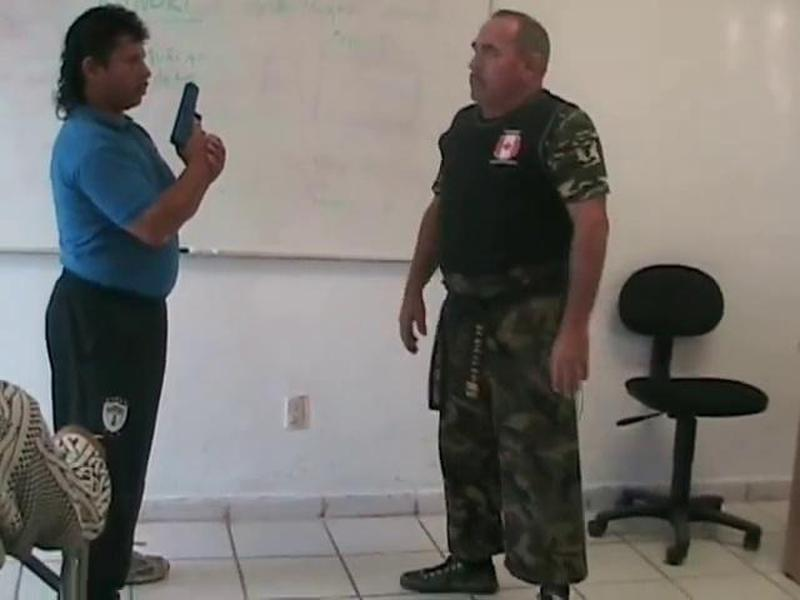Pistola: (154, 70, 223, 168)
